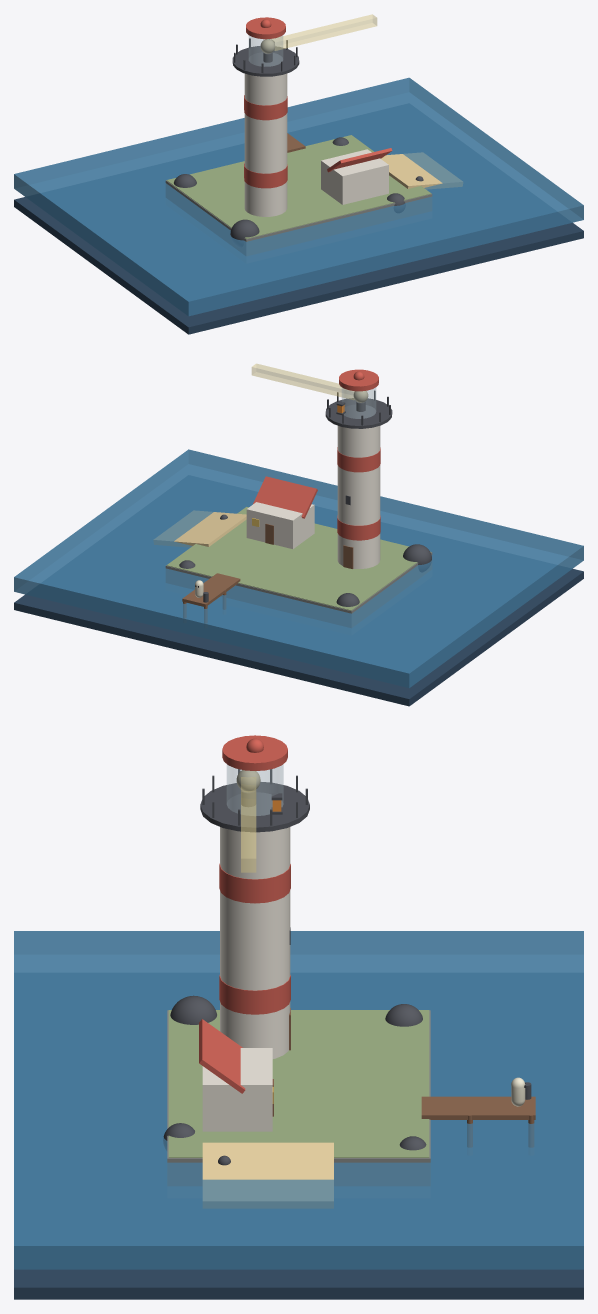
Rendered from level_01.obj.
3 renders of one model, top to bottom at view 1: azimuth 30°, elevation 25°; view 2: azimuth 150°, elevation 25°; view 3: azimuth 270°, elevation 25°, orthographic. The views are drawn at different scales.
Parts seen in each view (by area): view 1: _program, _set, beach, gallery; view 2: _program, _set, beach, gallery, dock; view 3: _program, _set, beach, gallery, dock.
Boxes of the visible parts, x1=… form: _program: x1=14, y1=14, x2=583, y2=316; _set: x1=14, y1=17, x2=583, y2=334; beach: x1=381, y1=152, x2=462, y2=189; gallery: x1=232, y1=38, x2=299, y2=76; _program: x1=14, y1=363, x2=583, y2=688; _set: x1=14, y1=369, x2=583, y2=706; beach: x1=153, y1=510, x2=246, y2=547; gallery: x1=325, y1=390, x2=392, y2=428; dock: x1=182, y1=573, x2=240, y2=623; _program: x1=14, y1=764, x2=583, y2=1269; _set: x1=14, y1=735, x2=583, y2=1299; beach: x1=202, y1=1142, x2=333, y2=1208; gallery: x1=200, y1=769, x2=309, y2=832; dock: x1=421, y1=1082, x2=535, y2=1147.
Size of the model in its own units: 17 by 9.2 by 13.
